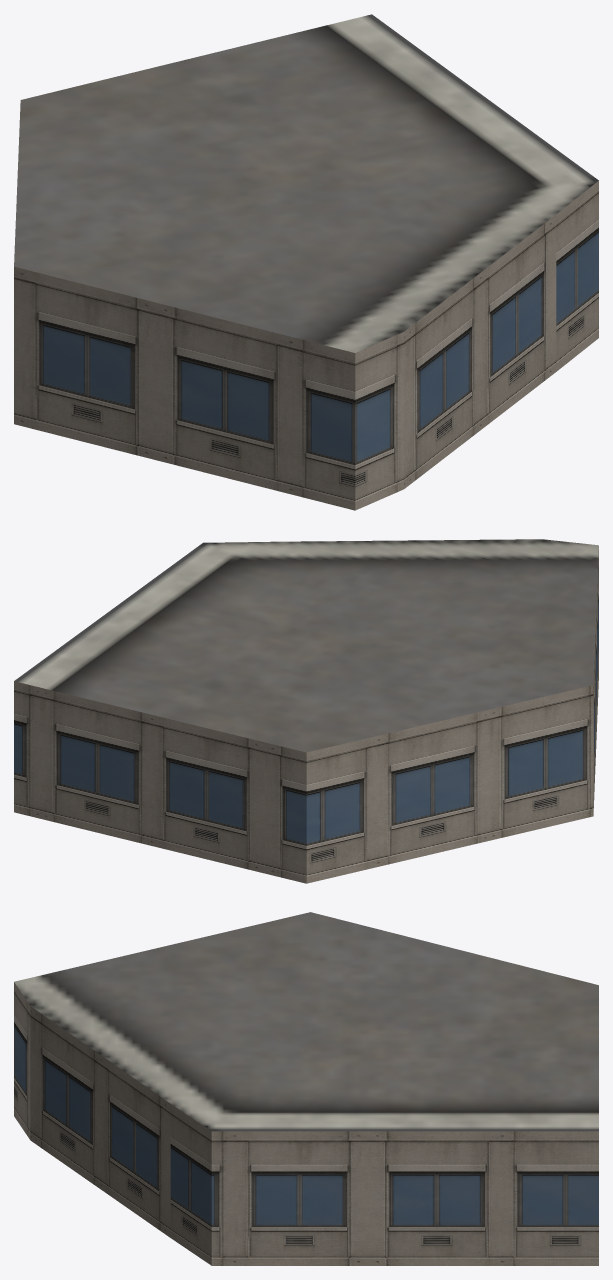
File: building_light_49.glb
3 views of the same model, one above another, from view 1: azimuth 30°, elevation 25°; view 2: azimuth 150°, elevation 25°; view 3: azimuth 270°, elevation 25° (orthographic). The views are drawn at different scales.
Parts seen in each view (by area): view 1: buildings/saxarba/building_light/building_light_49; view 2: buildings/saxarba/building_light/building_light_49; view 3: buildings/saxarba/building_light/building_light_49.
Boxes of the visible parts, x1,y1,x2,y2 form: buildings/saxarba/building_light/building_light_49: (14, 14, 598, 510); buildings/saxarba/building_light/building_light_49: (14, 539, 598, 883); buildings/saxarba/building_light/building_light_49: (14, 912, 598, 1265).
Bounding box in the file's own units: 63 × 18 × 71.
